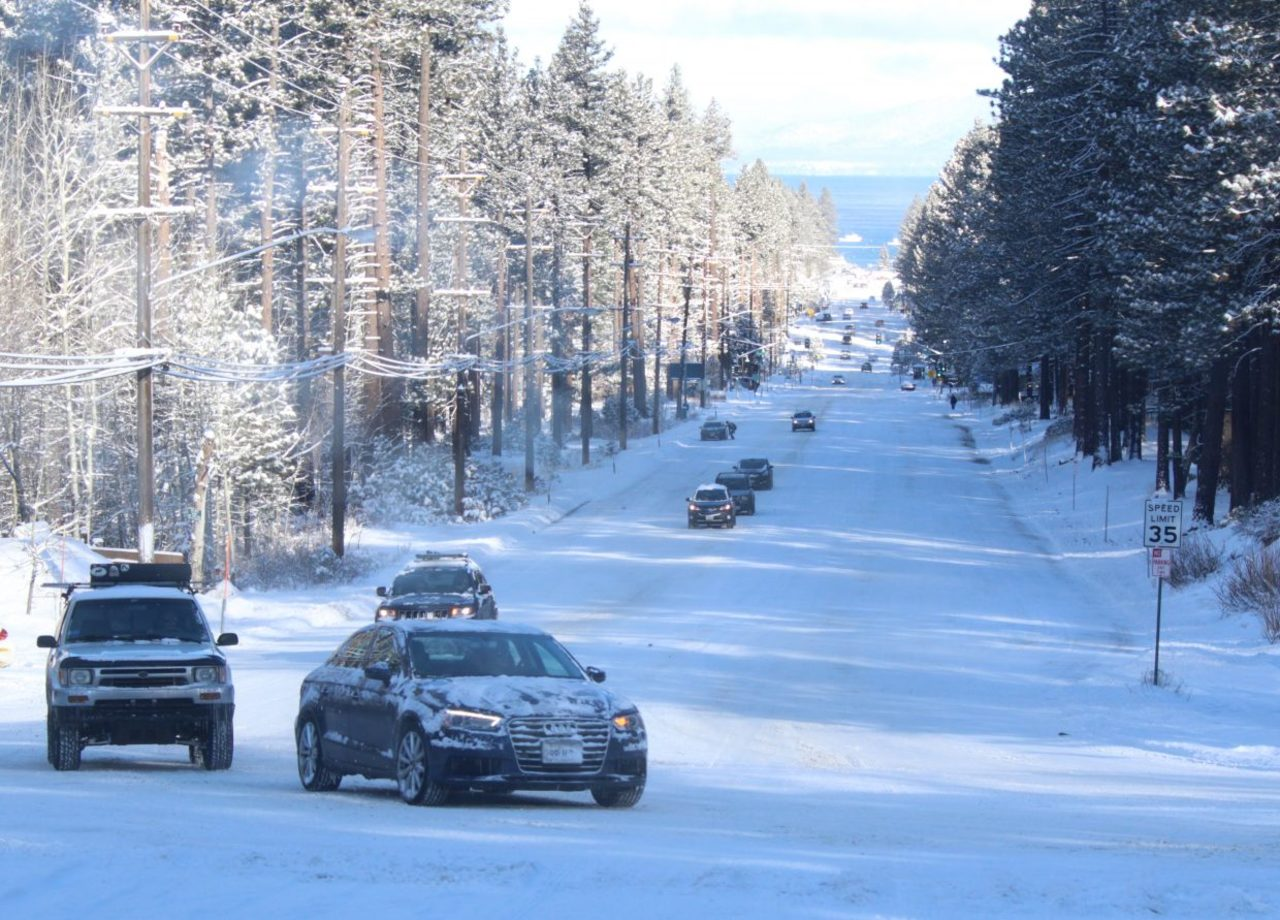car: (295, 617, 652, 810), (35, 565, 232, 769), (375, 560, 499, 621), (685, 484, 738, 529), (717, 468, 752, 509), (740, 455, 775, 489), (699, 417, 726, 439), (791, 408, 815, 431), (831, 372, 844, 387), (859, 360, 873, 373)
person: (726, 418, 737, 440), (949, 390, 957, 411)
